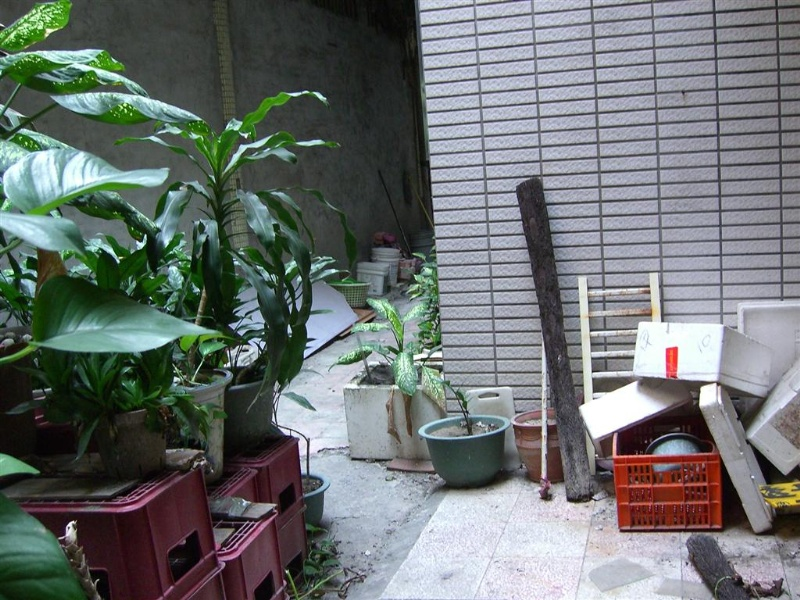bucket: (370, 245, 401, 287), (356, 260, 388, 295)
styrofoam: (699, 383, 774, 533), (634, 321, 769, 396), (342, 361, 444, 459), (579, 376, 694, 457), (743, 359, 800, 477), (736, 300, 800, 360)
